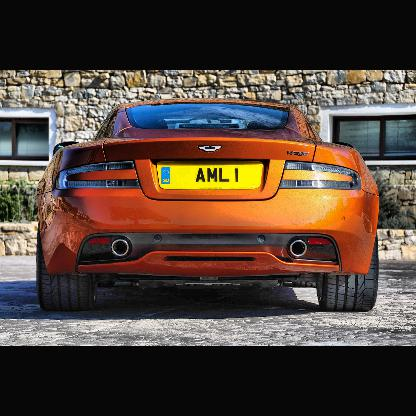Aston Martin Virage Coupe 2012: (27, 100, 383, 314)
